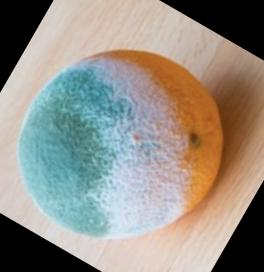Orange Rotten: (9, 49, 246, 242)
